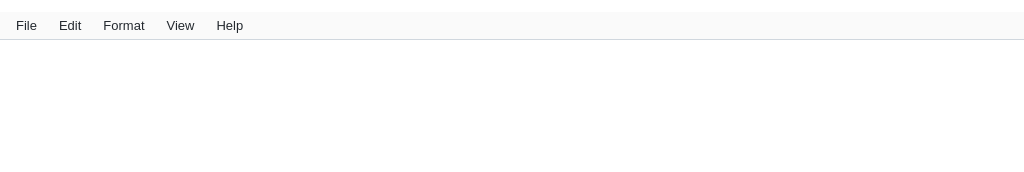
Scenario: MenuBar labels (regression: renames must land in BOTH languages) › English: View menu shows Focus Mode
What coordinates should you click on to do the following:
click the button "View"
I would click on:
 (180, 26)
Its box is 156,14 -> 204,37.
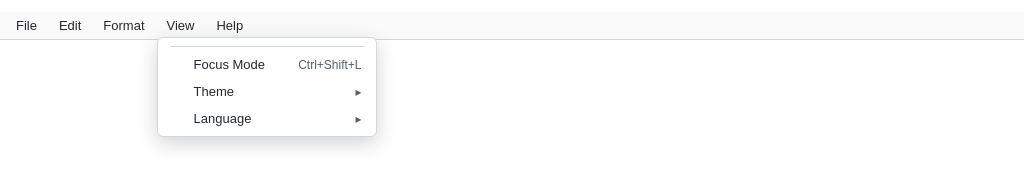
Check: the text "Focus Mode" is shown, box 194,57 -> 274,72
